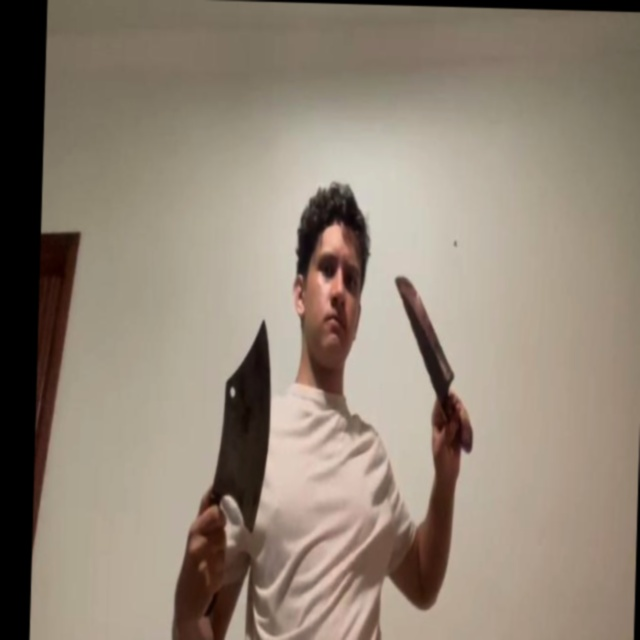Sharp-Object: (220, 313, 275, 532), (392, 275, 457, 382)
